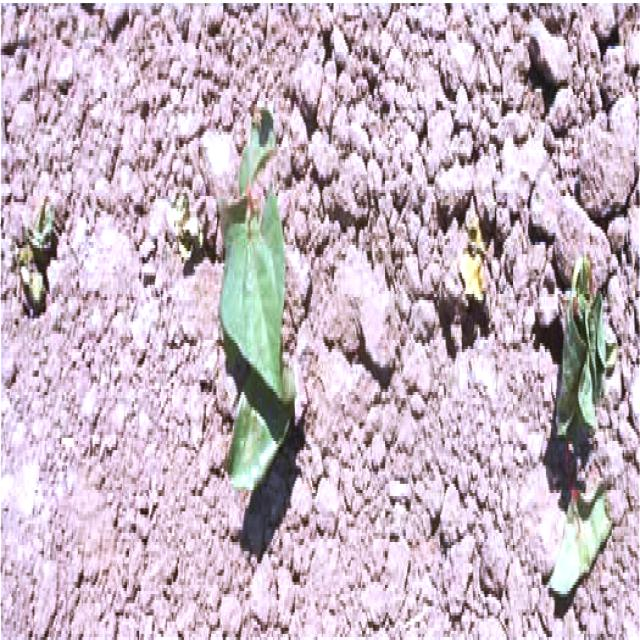Fusarium Wilt: (205, 106, 620, 551)
